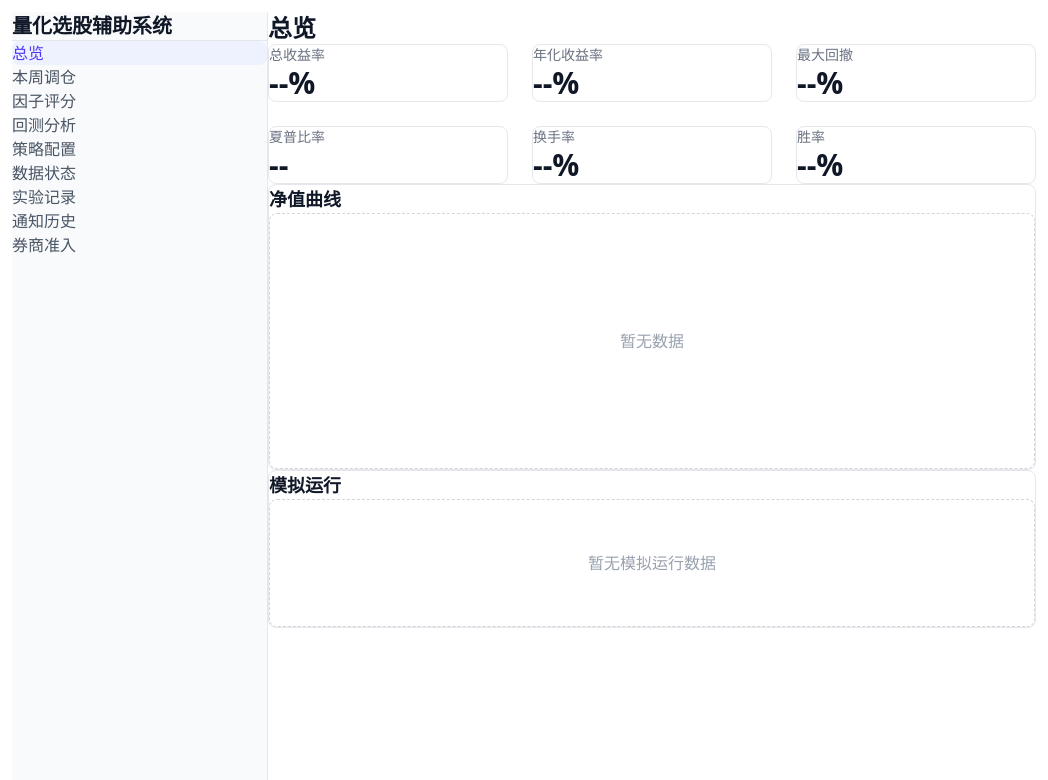
Scenario: App workspace navigation › switches to the notifications page
This screenshot has width=1048, height=780.
Click the button "通知历史" at coordinates (140, 221), box left=12, top=209, right=267, bottom=233
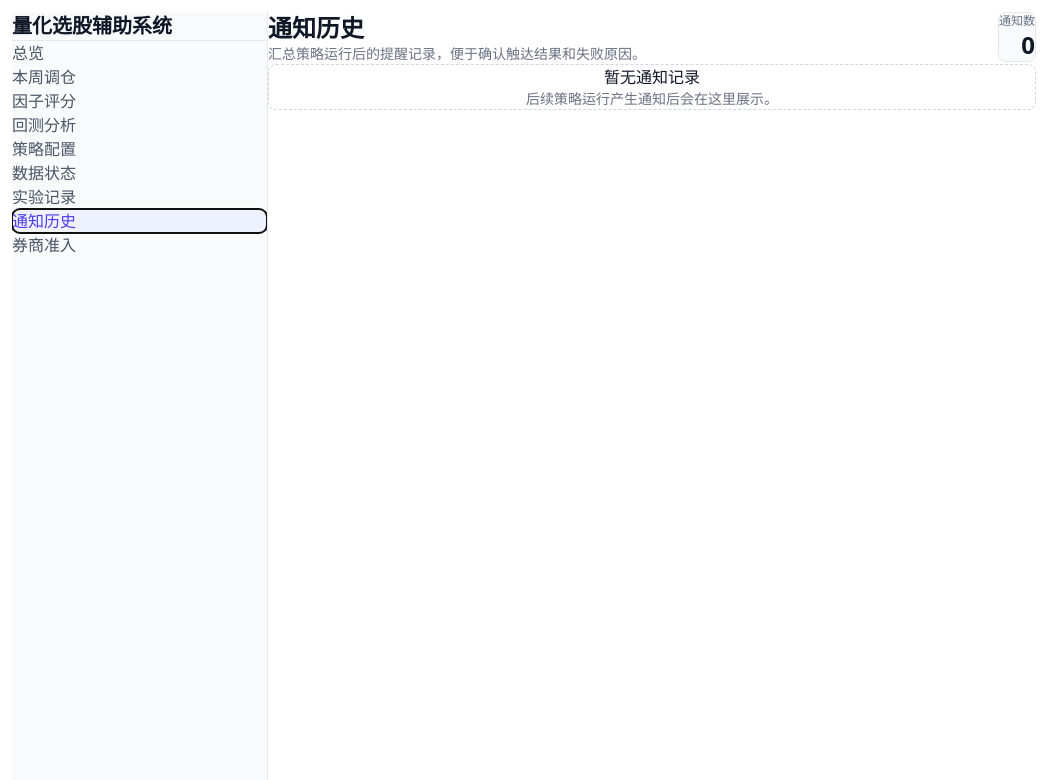
Expected: the heading "通知历史" is shown, left=268, top=11, right=364, bottom=44
